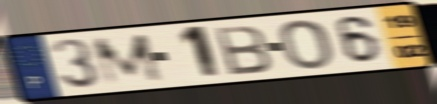1: (177, 23, 223, 81)
3: (50, 37, 101, 91)
6: (334, 14, 383, 65)
B: (212, 23, 275, 77)
M: (89, 31, 167, 88)
O: (277, 18, 336, 71)
